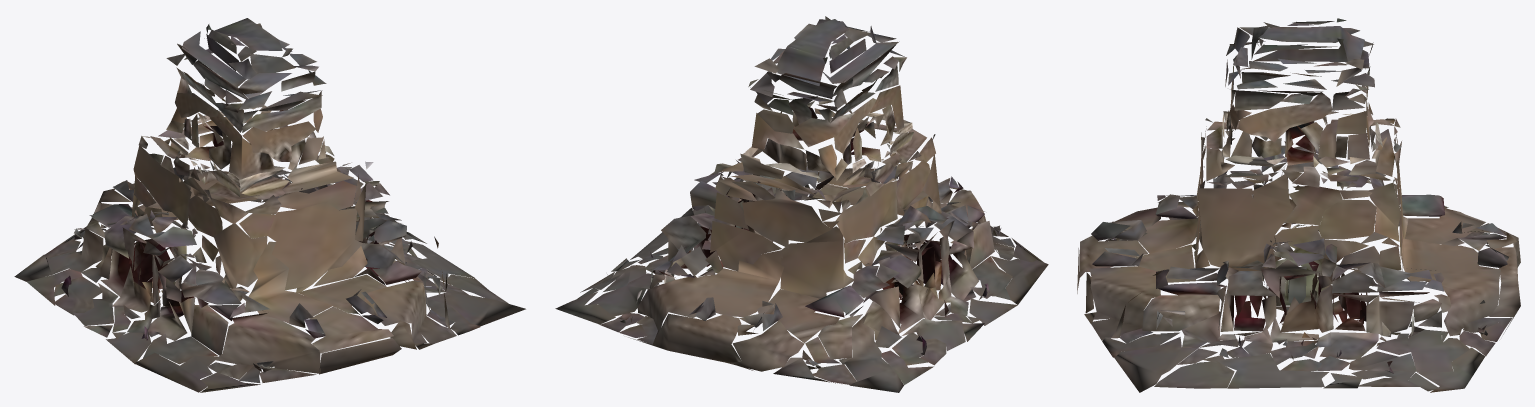
File: preview.glb
3 views of the same model, side by side, from view 1: azimuth 30°, elevation 25°; view 2: azimuth 150°, elevation 25°; view 3: azimuth 270°, elevation 25° (orthographic).
Parts seen in each view (by area): view 1: bell/tripo_node_699a5ef1-6457-416d-8bf5-67d091d52f18; view 2: bell/tripo_node_699a5ef1-6457-416d-8bf5-67d091d52f18; view 3: bell/tripo_node_699a5ef1-6457-416d-8bf5-67d091d52f18.
Boxes of the visible parts, <box> form: bell/tripo_node_699a5ef1-6457-416d-8bf5-67d091d52f18: <box>14,18,525,392</box>; bell/tripo_node_699a5ef1-6457-416d-8bf5-67d091d52f18: <box>555,16,1048,392</box>; bell/tripo_node_699a5ef1-6457-416d-8bf5-67d091d52f18: <box>1077,18,1520,392</box>.
Bounding box in the file's own units: 0.6316 × 0.4659 × 0.6821.
1 material, 1 textured.
